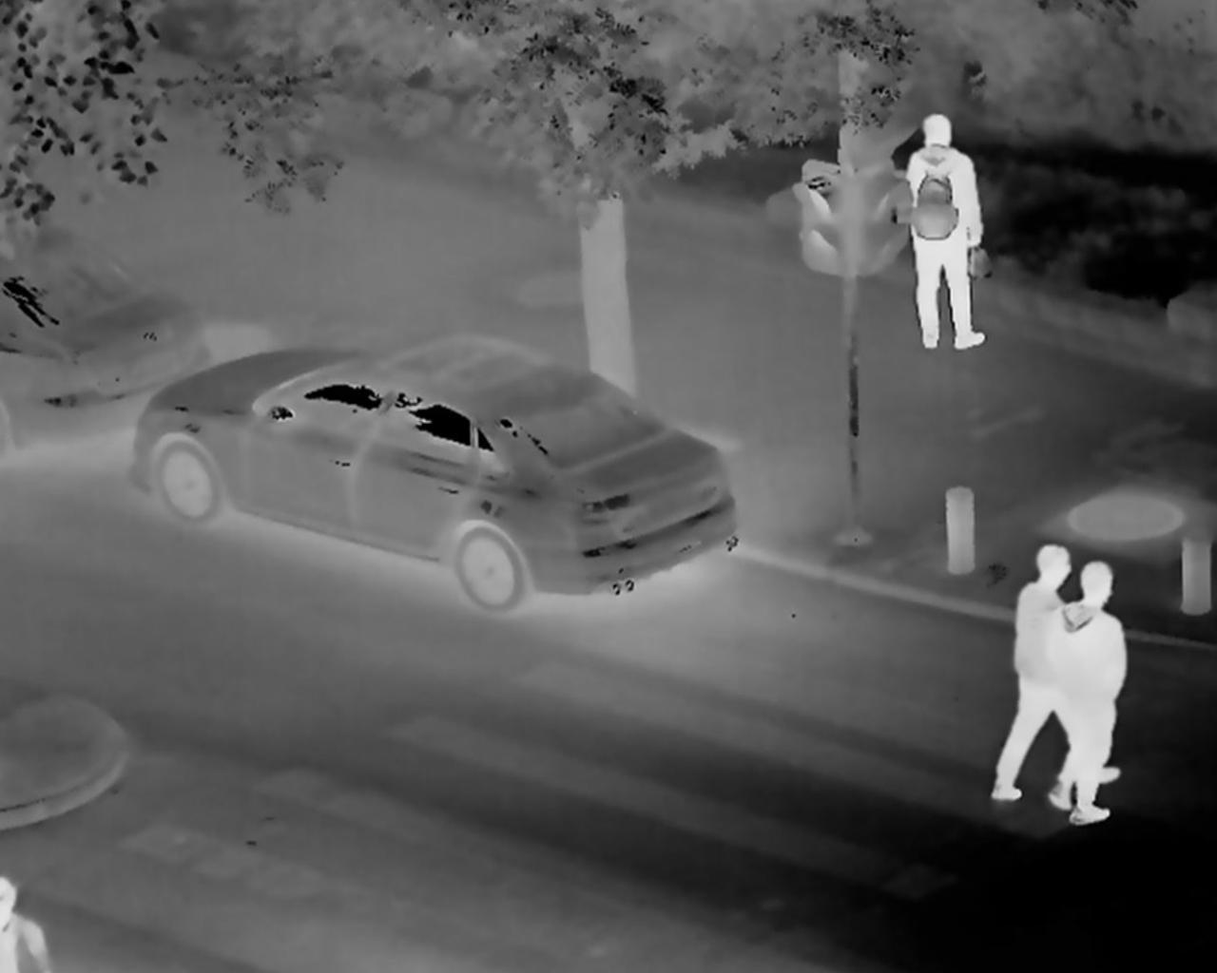person: (895, 111, 1000, 354), (1056, 563, 1130, 829), (1003, 544, 1074, 802), (4, 862, 53, 973)
